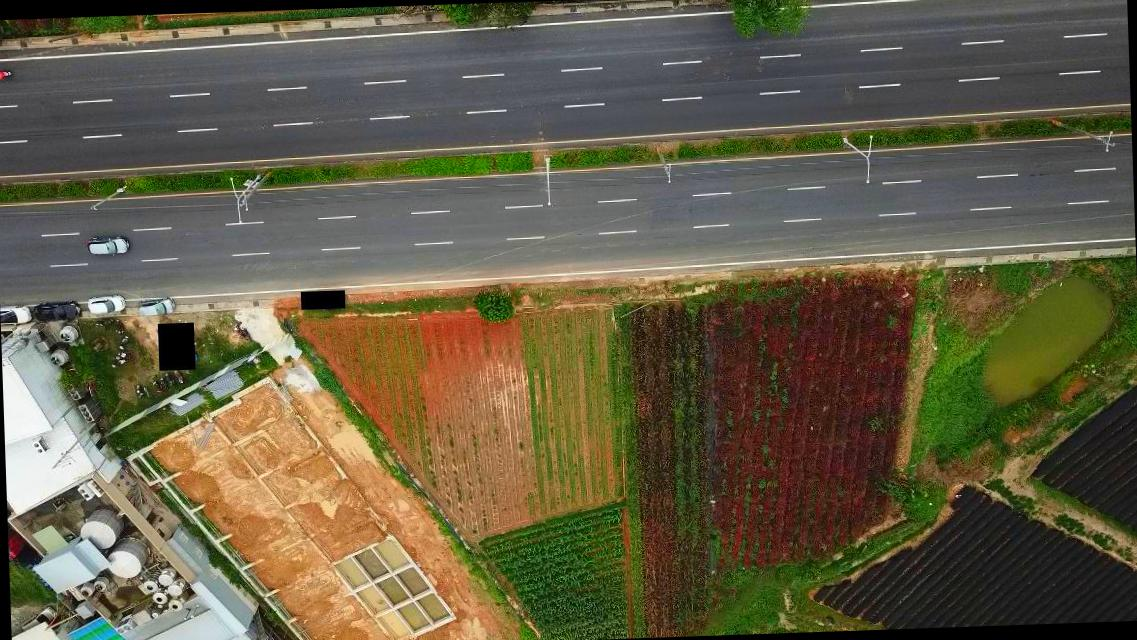vehicle: (33, 299, 81, 325), (18, 605, 60, 632), (86, 235, 128, 258), (86, 294, 126, 316), (138, 297, 176, 317), (0, 306, 32, 329)
